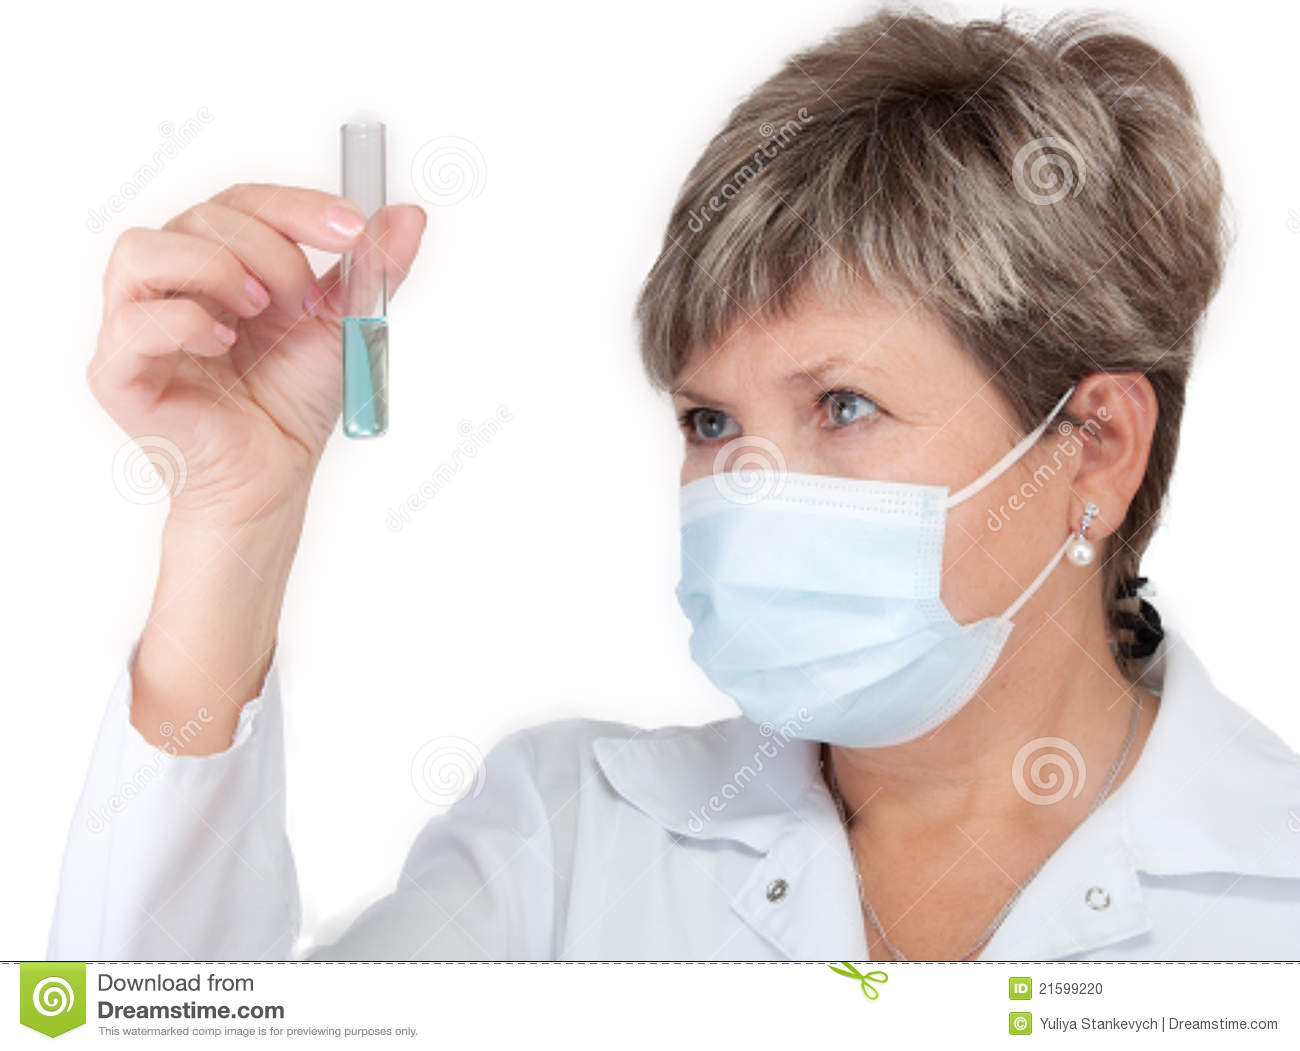mask: (662, 458, 1020, 768)
